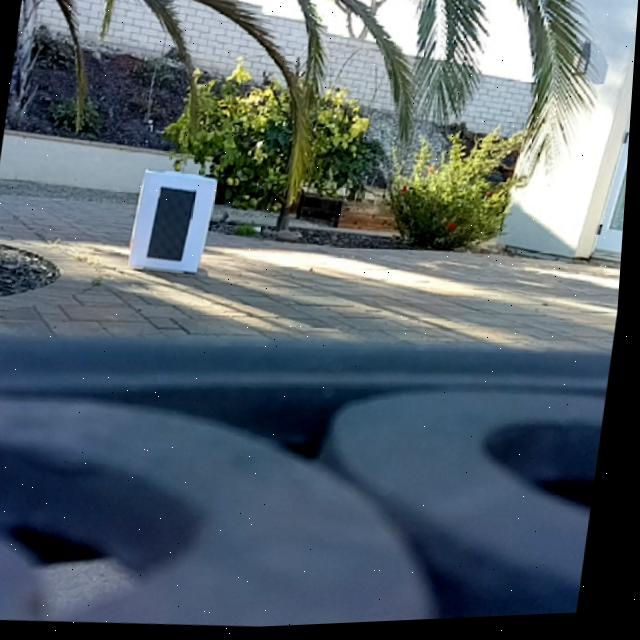led: (150, 186, 199, 265)
